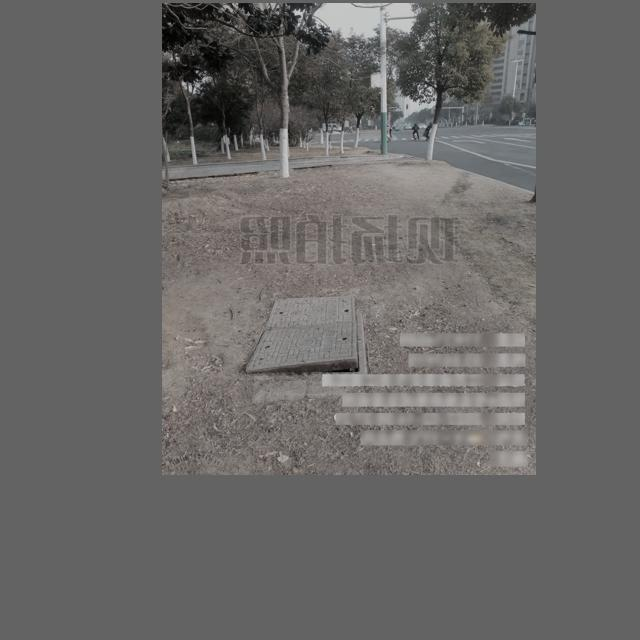uncovered: (247, 292, 365, 382)
